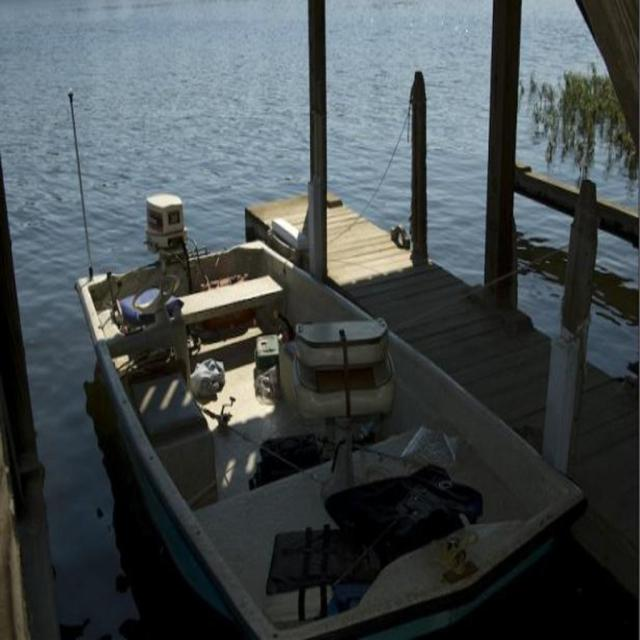Boat: (71, 84, 585, 638)
